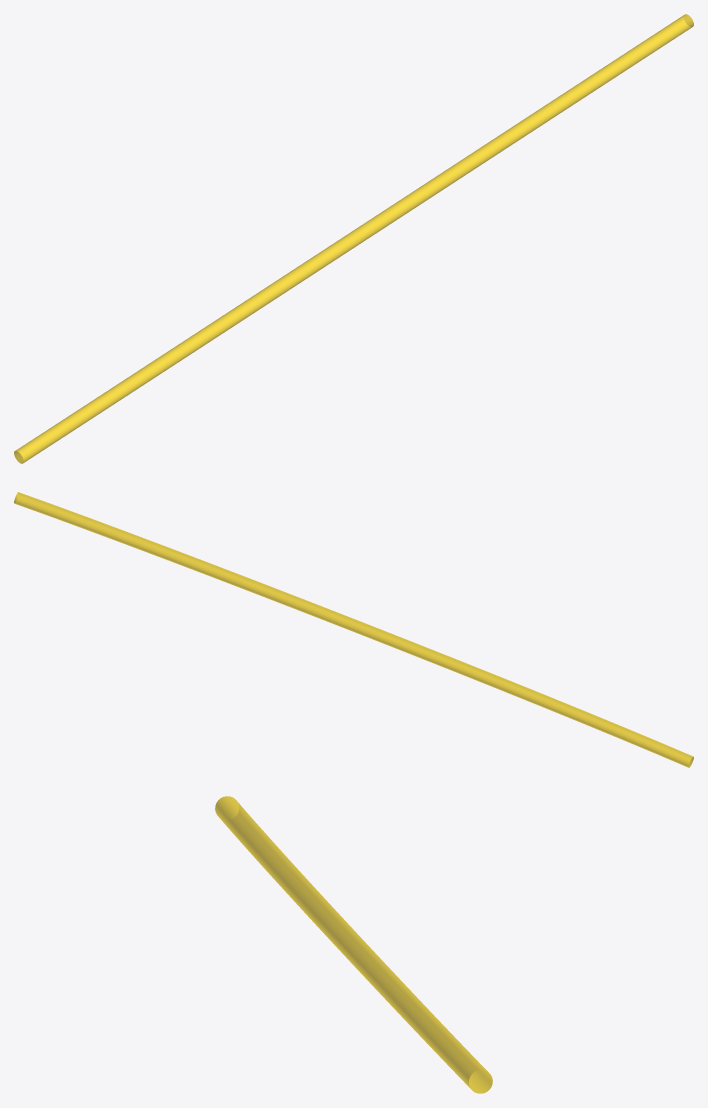
The model's file is Event_100608114_track_14.fbx.
3 views of the same model, one above another, from view 1: azimuth 30°, elevation 25°; view 2: azimuth 150°, elevation 25°; view 3: azimuth 270°, elevation 25° (orthographic). The views are drawn at different scales.
Parts seen in each view (by area): view 1: Model; view 2: Model; view 3: Model.
Part boxes in pixels (x1,y1,x2,y2): Model: [14, 14, 693, 463]; Model: [14, 492, 693, 767]; Model: [215, 796, 492, 1093].
Size of the model in its own units: 2.31 by 0.6203 by 0.4529.
